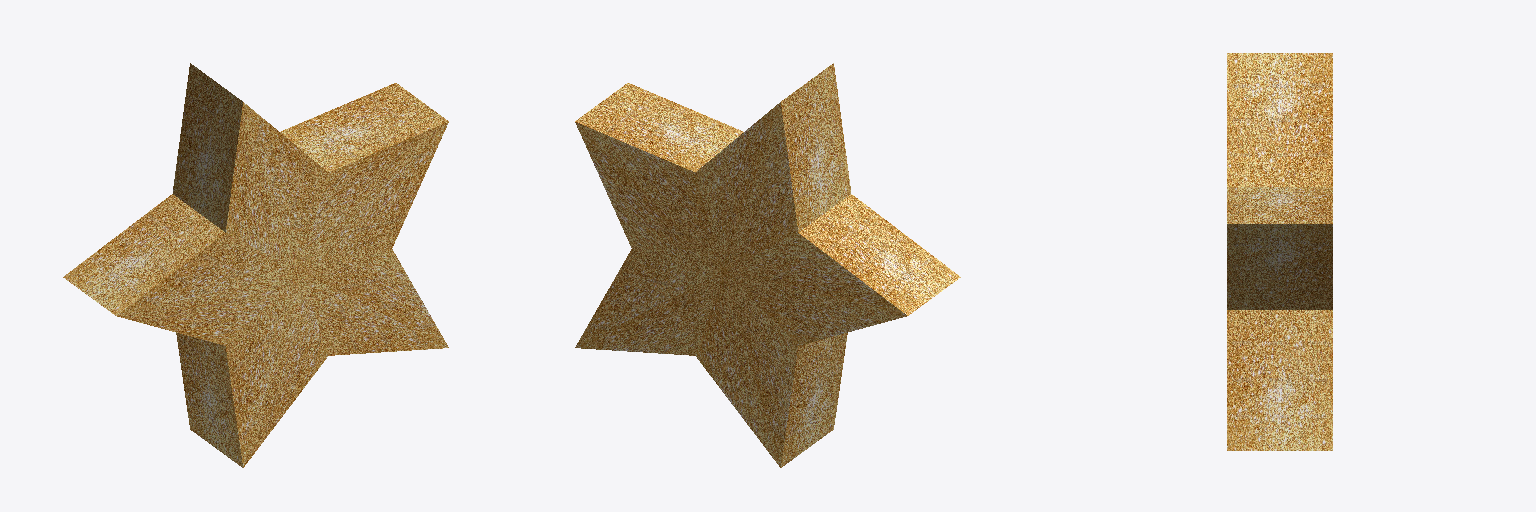
3 renders of one model, left to right at view 1: azimuth 30°, elevation 25°; view 2: azimuth 150°, elevation 25°; view 3: azimuth 270°, elevation 25°, orthographic.
Parts seen in each view (by area): view 1: Star; view 2: Star; view 3: Star.
Boxes of the visible parts, x1,y1,x2,y2 form: Star: [63, 63, 448, 467]; Star: [575, 63, 960, 467]; Star: [1227, 53, 1332, 450].
Bounding box in the file's own units: 1.81 × 1.9 × 0.5.
1 materials, 1 textured.